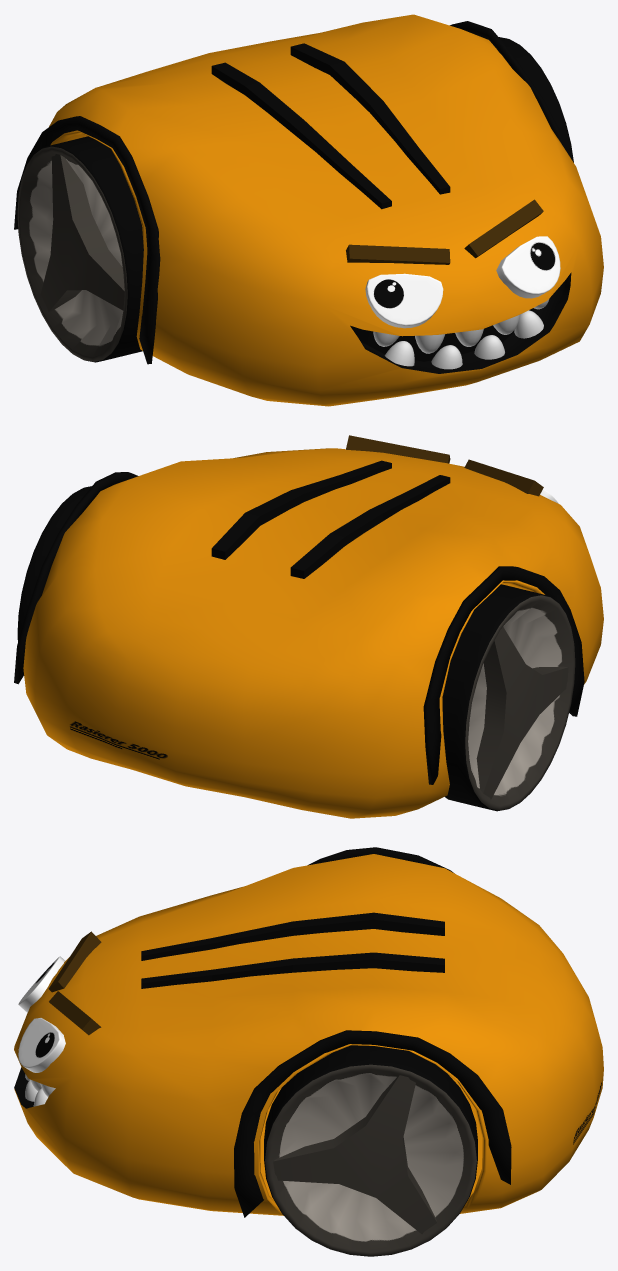
The model's file is SM_roboter.fbx.
3 renders of one model, top to bottom at view 1: azimuth 30°, elevation 25°; view 2: azimuth 150°, elevation 25°; view 3: azimuth 270°, elevation 25°, orthographic. The views are drawn at different scales.
Parts seen in each view (by area): view 1: robot, rad, augen, dekor, augenbrauen, zahnunten, zahnoben; view 2: robot, rad, dekor, augenbrauen; view 3: robot, rad, dekor, augen, augenbrauen.
Boxes of the visible parts, x1,y1,x2,y2 form: robot: (49,14,603,406); rad: (17,37,573,362); augen: (365,236,560,328); dekor: (14,21,569,364); augenbrauen: (346,199,543,264); zahnunten: (384,310,543,369); zahnoben: (373,298,549,353); robot: (23,448,603,818); rad: (17,486,575,811); dekor: (14,472,584,784); augenbrauen: (346,435,543,496); robot: (14,854,603,1215); rad: (264,1045,477,1256); dekor: (234,847,511,1217); augen: (18,956,65,1072); augenbrauen: (48,931,101,1035).
Size of the model in its own units: 517 by 251 by 607.
Materials: 1 (1 with a texture image).
